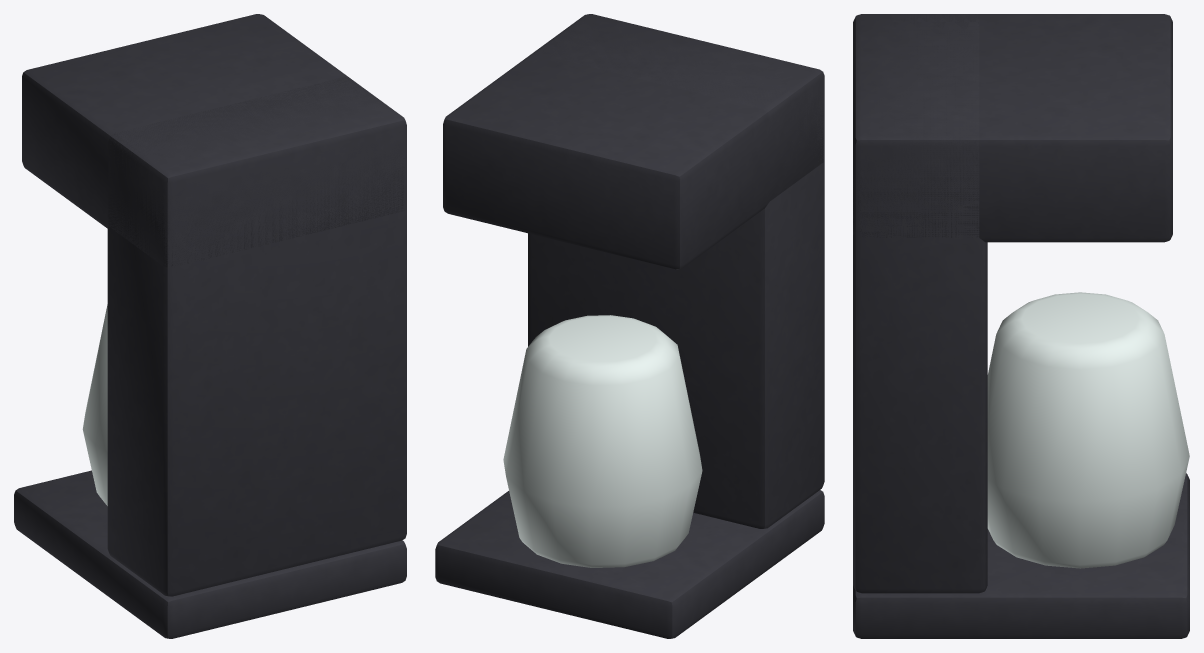
Rendered from SM_Coffee_Maker.fbx.
The picture shows the model from 3 angles, left to right: view 1: azimuth 30°, elevation 25°; view 2: azimuth 150°, elevation 25°; view 3: azimuth 270°, elevation 25°; orthographic projection. The views are drawn at different scales.
Visible parts, largest first — view 1: SM_Coffee_Maker; view 2: SM_Coffee_Maker; view 3: SM_Coffee_Maker.
Part boxes in pixels (x1,y1,x2,y2): SM_Coffee_Maker: (14,14,406,638); SM_Coffee_Maker: (435,14,824,638); SM_Coffee_Maker: (853,14,1189,638).
Bounding box in the file's own units: 0.18 × 0.33 × 0.2.
Materials: 3 (3 with a texture image).
